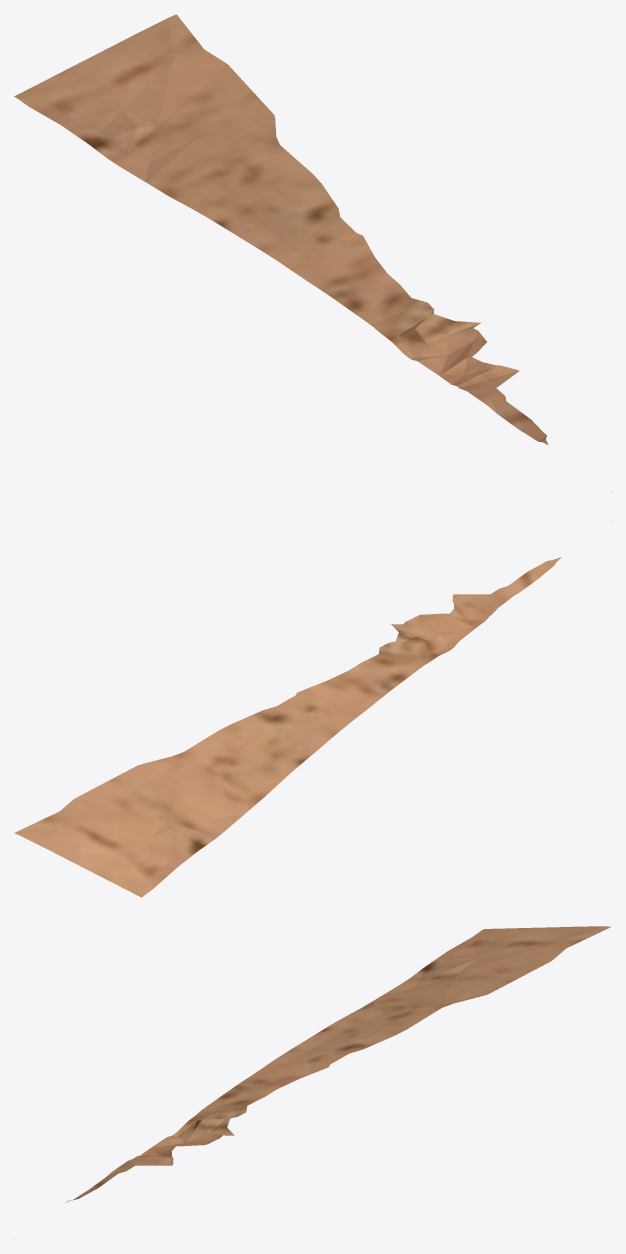
The picture shows the model from 3 angles, top to bottom: view 1: azimuth 30°, elevation 25°; view 2: azimuth 150°, elevation 25°; view 3: azimuth 330°, elevation 25°; orthographic projection. The views are drawn at different scales.
Size of the model in its own units: 0.2279 by 0.057 by 1.45.
1 material, 1 textured.
